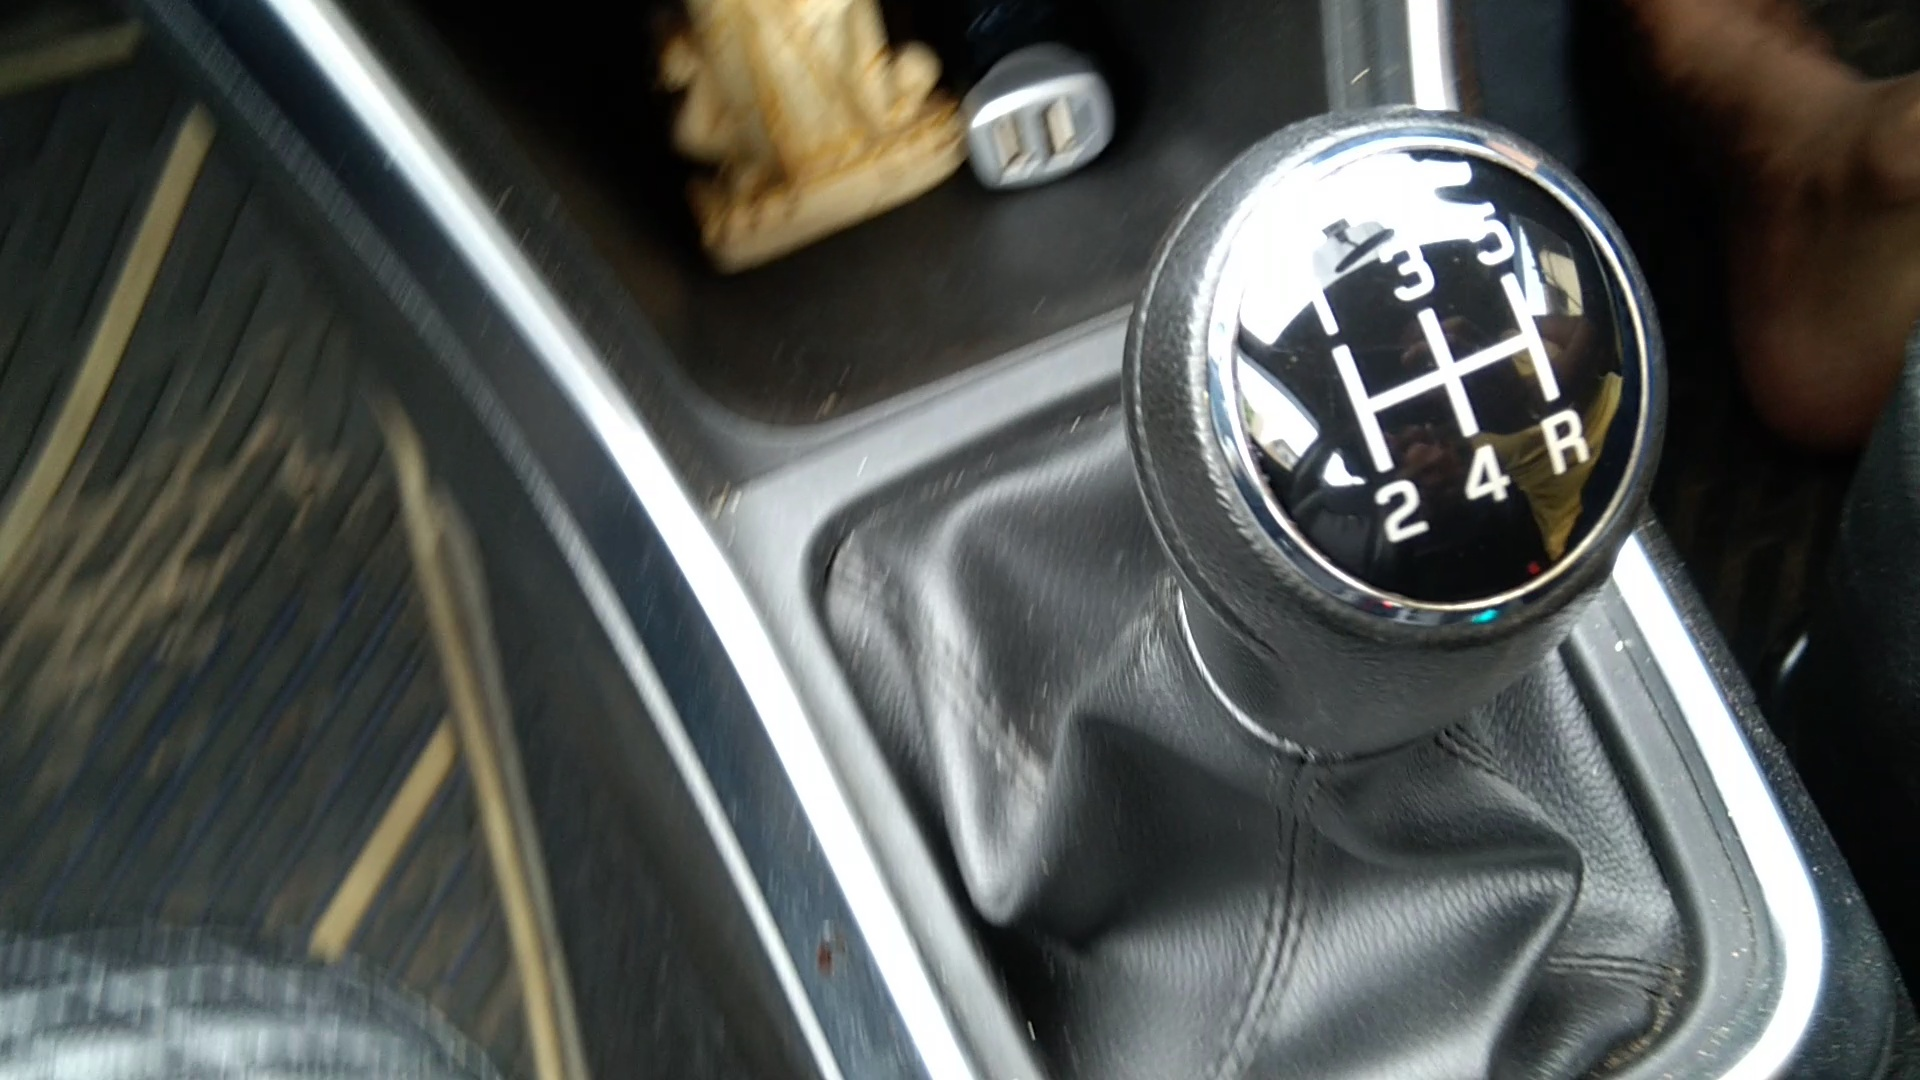manual_gear: (1101, 50, 1681, 967)
